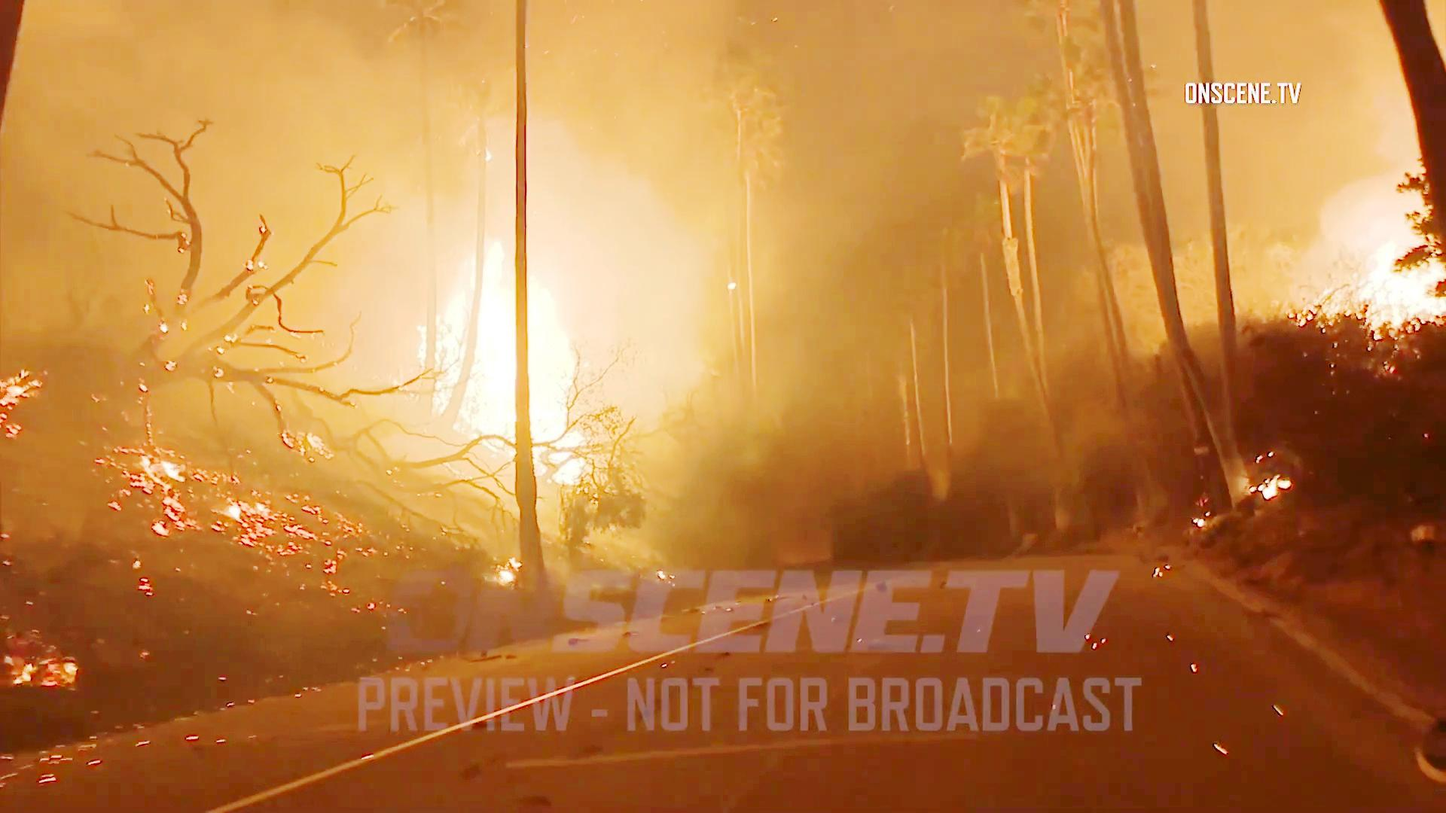fire: (430, 221, 584, 470)
